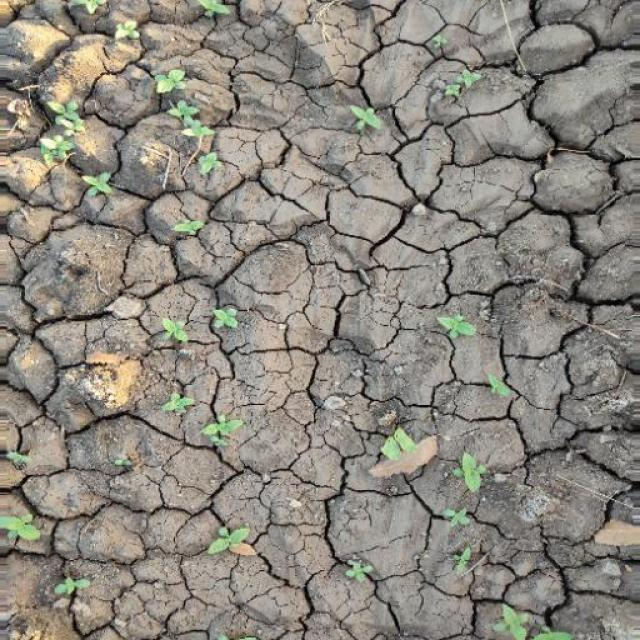crop: (28, 93, 116, 205), (145, 68, 227, 182), (160, 392, 244, 450), (154, 302, 244, 342), (417, 68, 498, 109), (206, 518, 252, 560), (448, 448, 490, 493), (432, 305, 476, 343), (348, 101, 388, 135), (337, 550, 375, 585)
